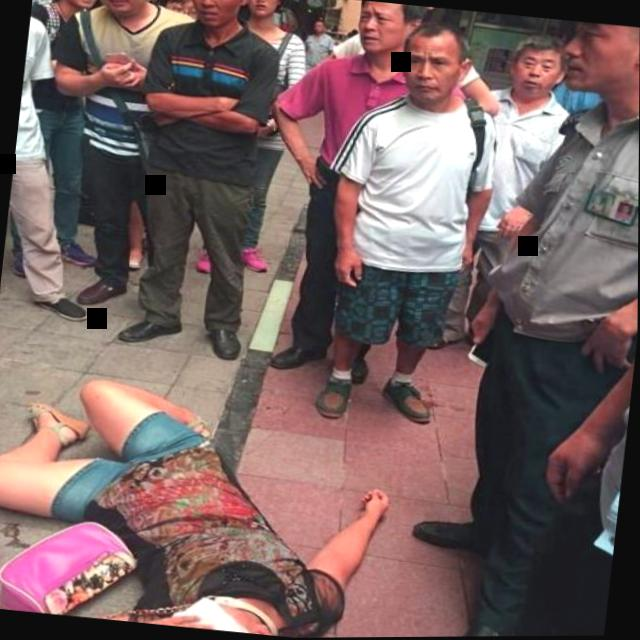Fall-Detected: (0, 348, 409, 640)
